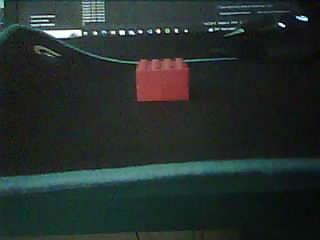lego: (135, 57, 189, 102)
